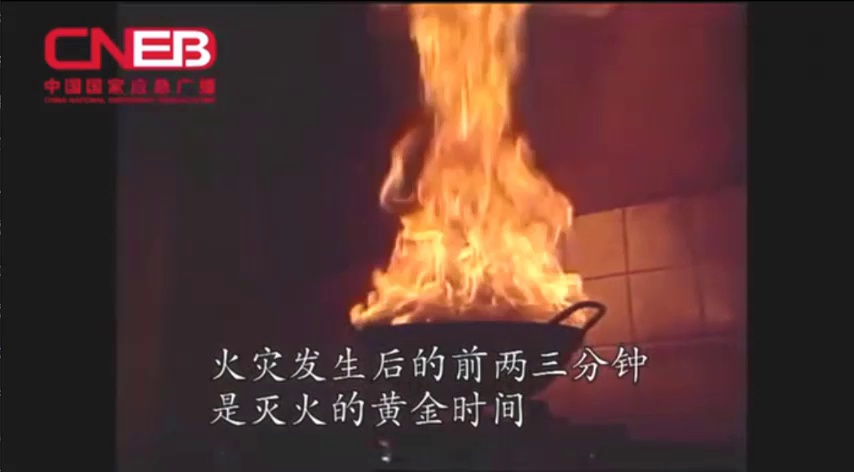fire: (340, 5, 616, 336)
